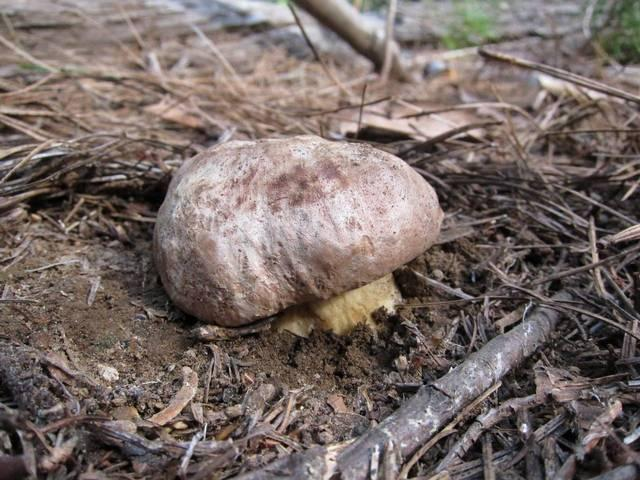Edible Mushroom: (151, 133, 444, 339)
